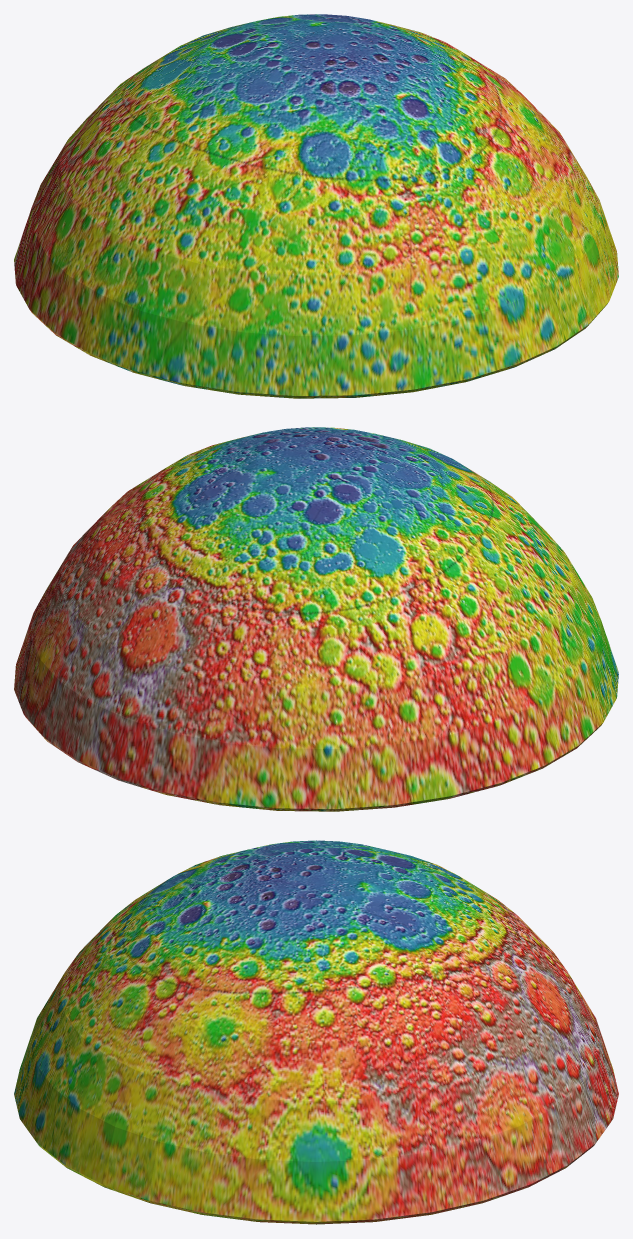
The model's file is Moon.fbx.
The picture shows the model from 3 angles, top to bottom: view 1: azimuth 30°, elevation 25°; view 2: azimuth 150°, elevation 25°; view 3: azimuth 270°, elevation 25°; orthographic projection.
Parts seen in each view (by area): view 1: Moon; view 2: Moon; view 3: Moon.
Boxes of the visible parts, <box> form: Moon: <box>14,14,618,398</box>; Moon: <box>14,427,618,811</box>; Moon: <box>14,840,618,1224</box>.
Bounding box in the file's own units: 196 × 81.78 × 196.
